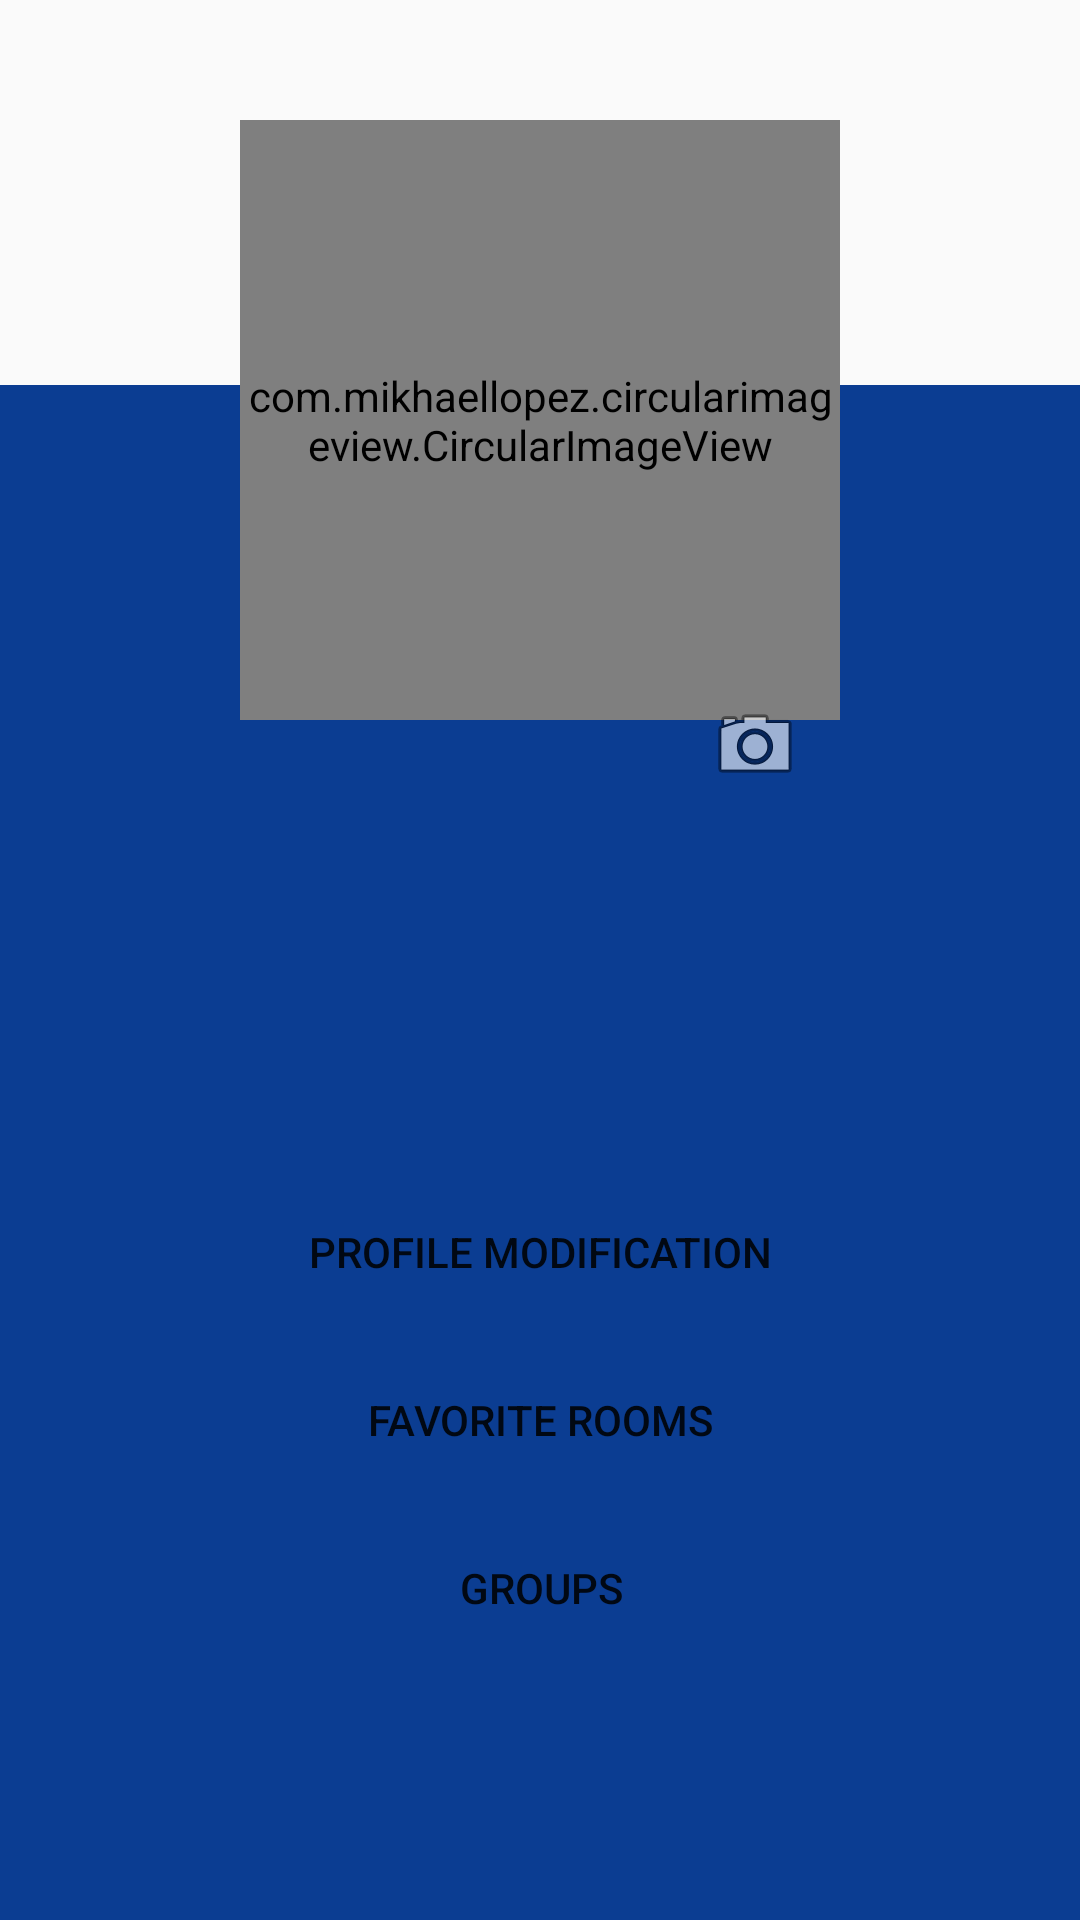

Named icons in this screenshot (1080×1920) and their centers, point (x, y):
camera: point (755, 735)
